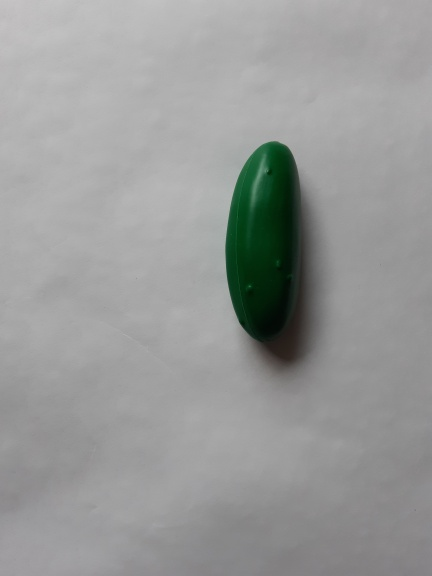cucumber: (214, 132, 311, 347)
